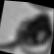correct: (0, 2, 54, 54)
